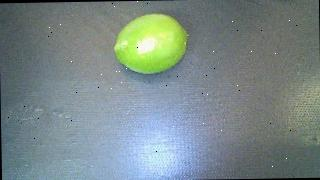EXPORTACION: (113, 13, 188, 74)
